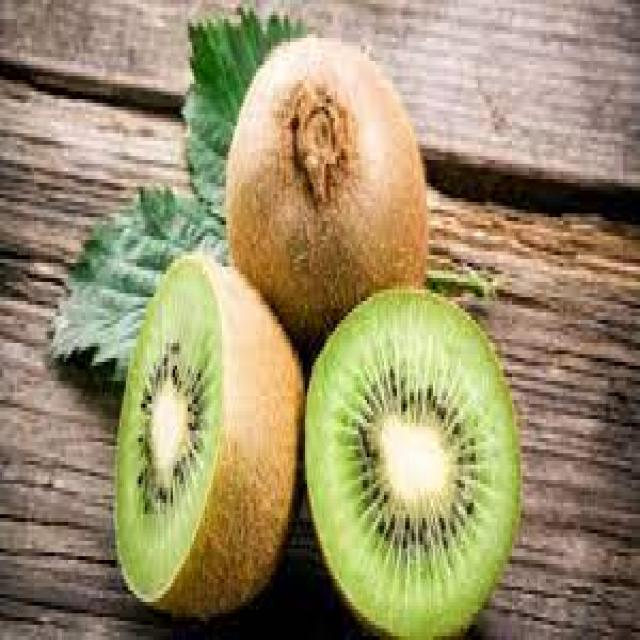kiwi: (305, 285, 524, 640), (111, 252, 301, 617), (224, 35, 429, 252)
